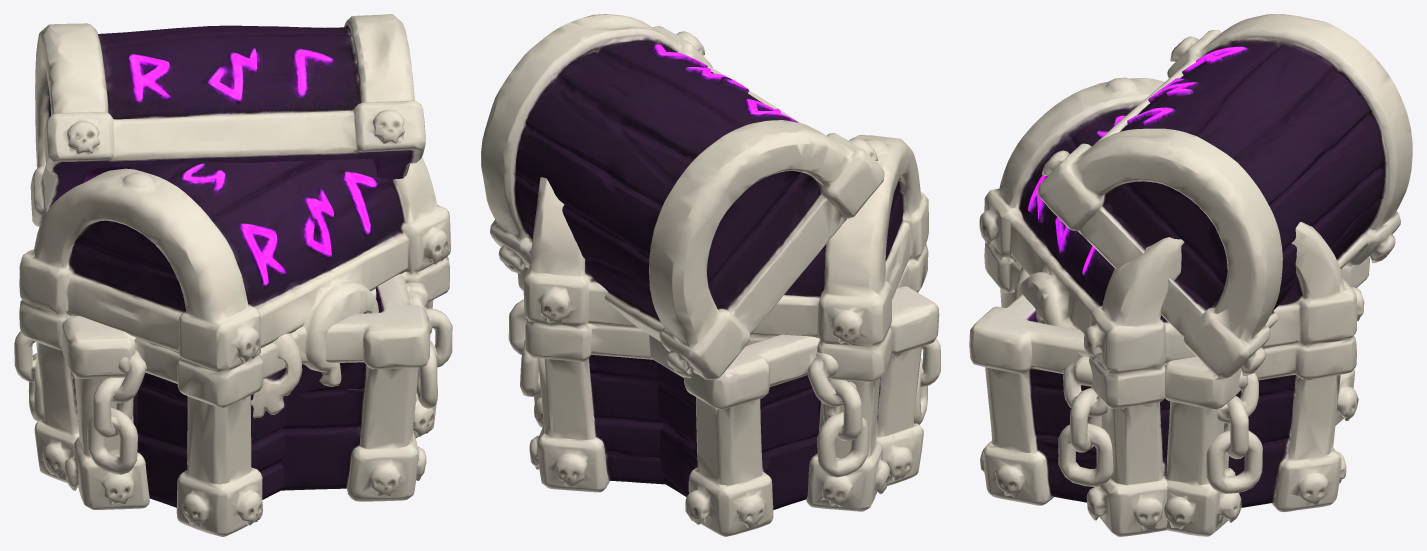
Rendered from ev_chest_cursed-Us0Q_7ij.glb.
3 views of the same model, side by side, from view 1: azimuth 30°, elevation 25°; view 2: azimuth 150°, elevation 25°; view 3: azimuth 270°, elevation 25° (orthographic). The views are drawn at different scales.
Parts seen in each view (by area): view 1: chest, chest_open; view 2: chest_open, chest; view 3: chest_open, chest.
Part boxes in pixels (box(x1,y1,x2,y2)): chest: box(19, 157, 450, 536); chest_open: box(14, 14, 452, 509); chest_open: box(481, 14, 939, 536); chest: box(508, 135, 940, 511); chest_open: box(969, 14, 1412, 536); chest: box(979, 77, 1364, 536).
Size of the model in its own units: 1.36 by 1.32 by 1.36.
1 material, 1 textured.
